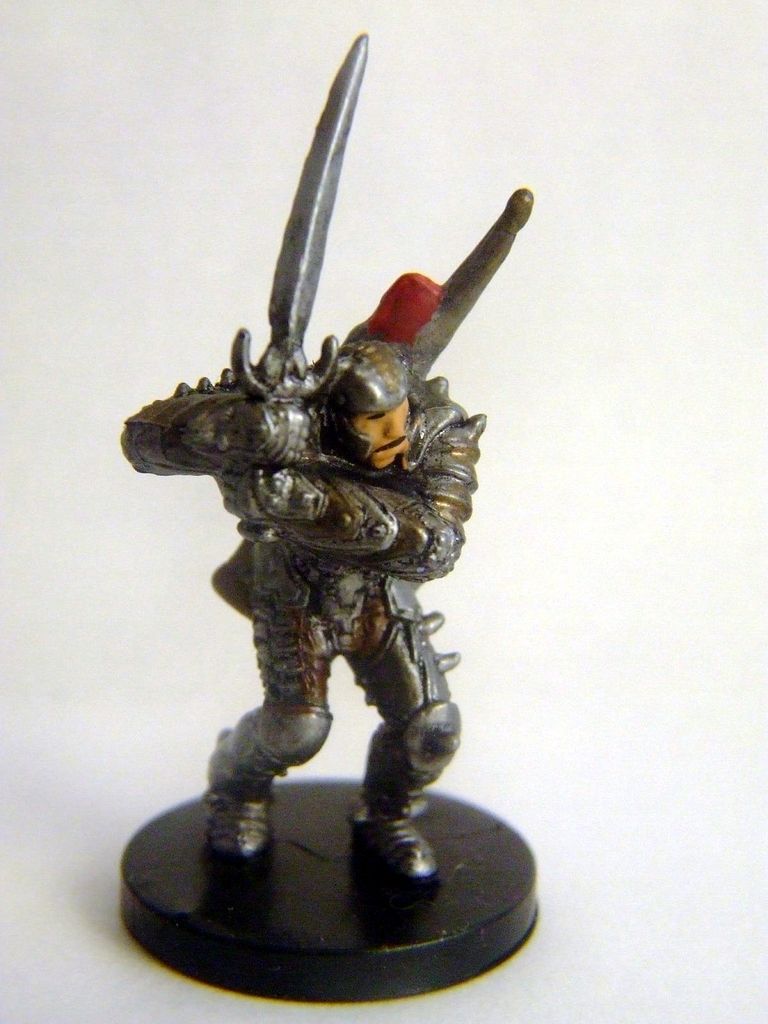Person: (120, 338, 488, 880)
